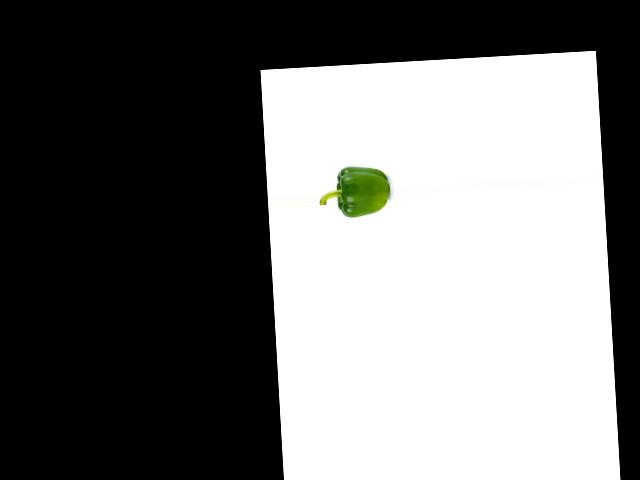bell_pepper: (319, 156, 391, 220)
